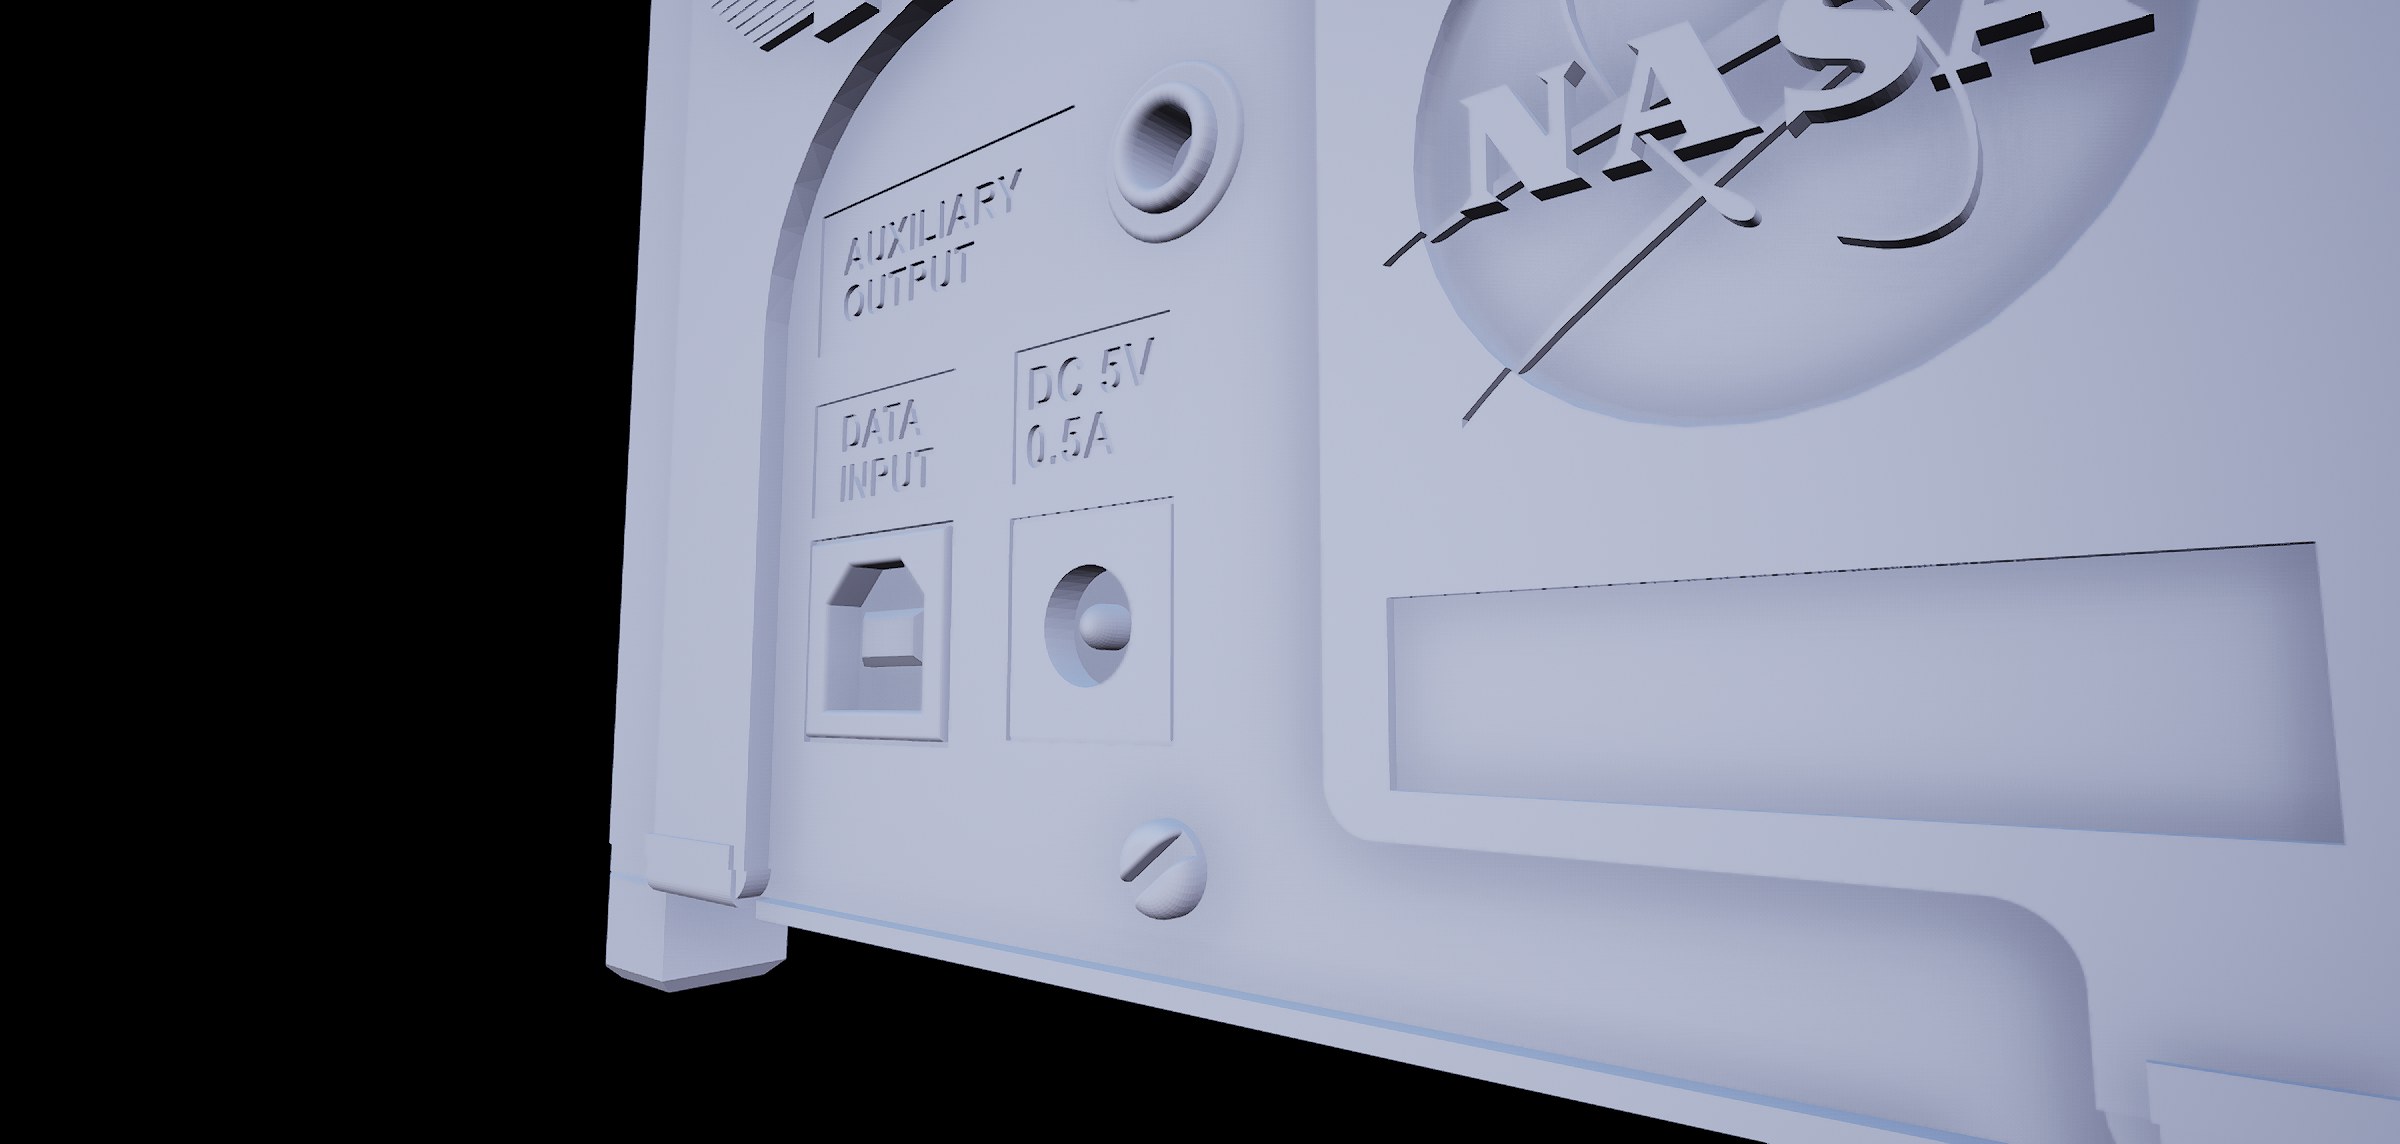aux: (1097, 64, 1292, 234)
dc: (1029, 557, 1156, 700)
usb: (820, 554, 940, 721)
